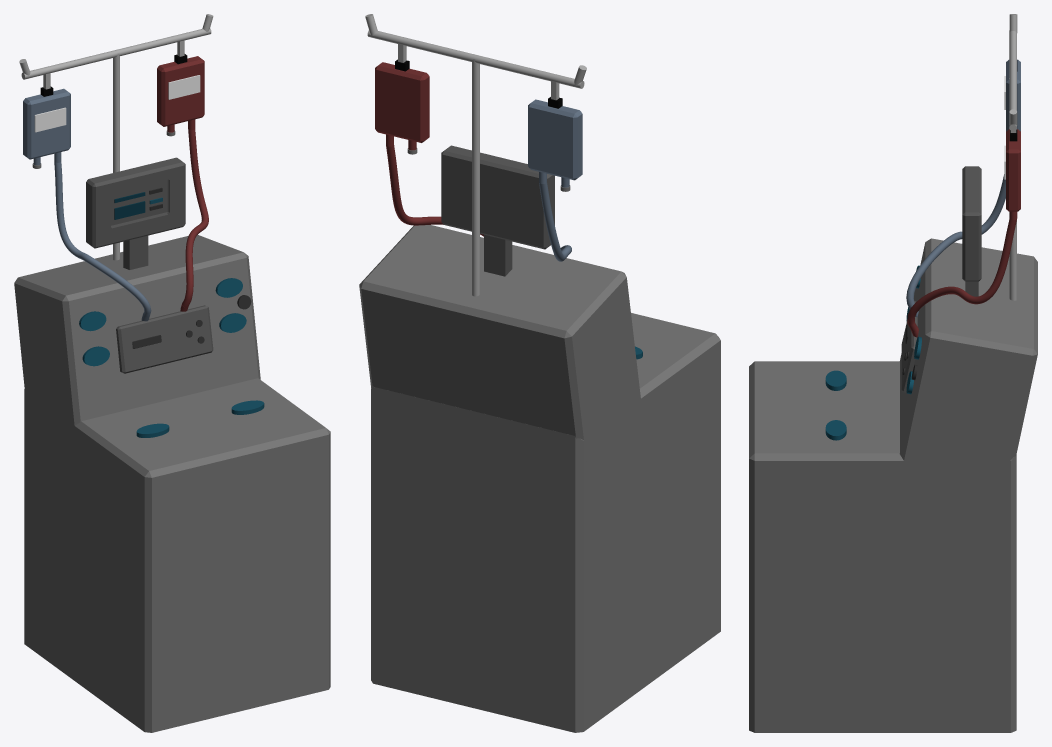
The model's file is MAQUINA_AFERESIS.fbx.
3 views of the same model, side by side, from view 1: azimuth 30°, elevation 25°; view 2: azimuth 150°, elevation 25°; view 3: azimuth 270°, elevation 25° (orthographic). The views are drawn at different scales.
Parts seen in each view (by area): view 1: pCube22; view 2: pCube22; view 3: pCube22.
Part boxes in pixels (x1=…): pCube22: x1=14, y1=14, x2=330, y2=732; pCube22: x1=359, y1=14, x2=720, y2=732; pCube22: x1=749, y1=14, x2=1037, y2=732.
Size of the model in its own units: 62.21 by 180 by 75.54.
